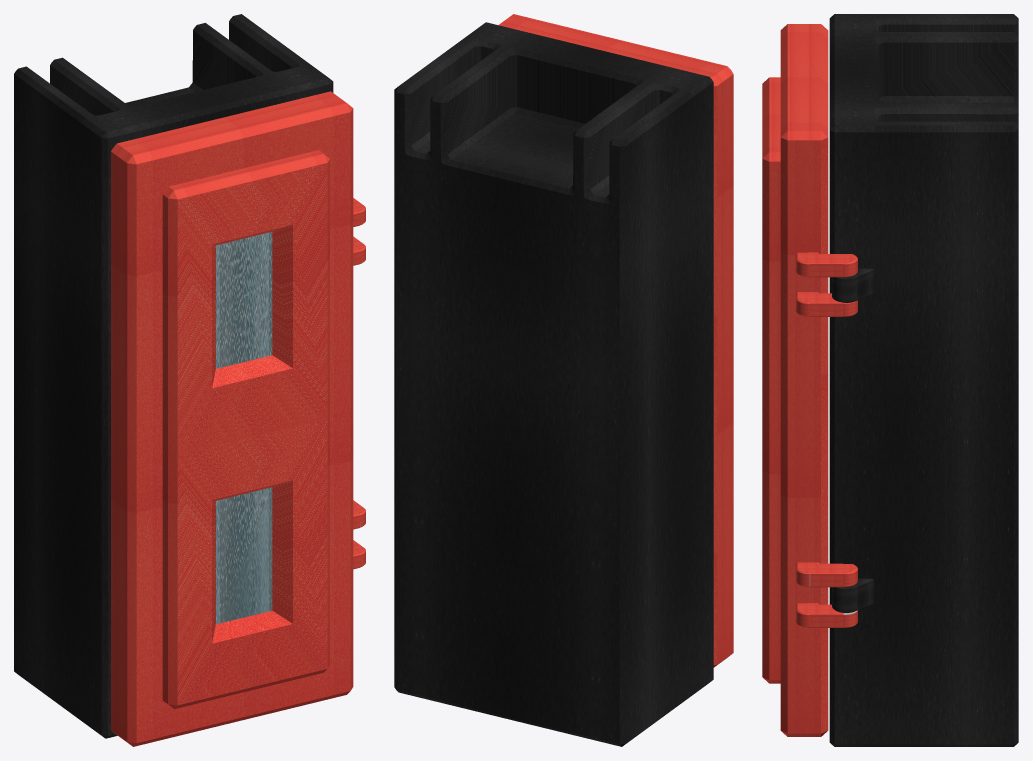
File: Brandsläckare.fbx
The picture shows the model from 3 angles, left to right: view 1: azimuth 30°, elevation 25°; view 2: azimuth 150°, elevation 25°; view 3: azimuth 270°, elevation 25°; orthographic projection. The views are drawn at different scales.
Parts seen in each view (by area): view 1: pCube16; view 2: pCube16; view 3: pCube16.
Part boxes in pixels (box(x1,y1,x2,y2)): pCube16: box(14, 14, 365, 746); pCube16: box(394, 14, 733, 746); pCube16: box(762, 14, 1018, 746).
Bounding box in the file's own units: 0.3029 × 0.7 × 0.2619.
4 materials, 3 textured.
